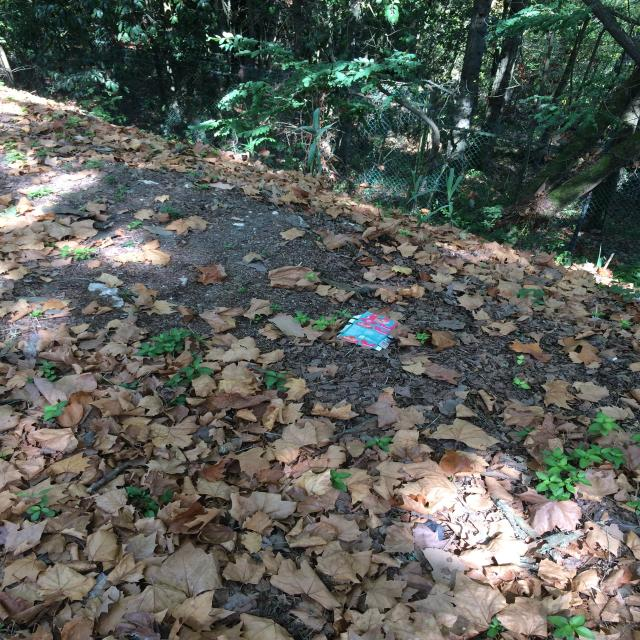Other carton: (337, 312, 398, 351)
Plastic film: (89, 572, 108, 598), (24, 334, 41, 358)
